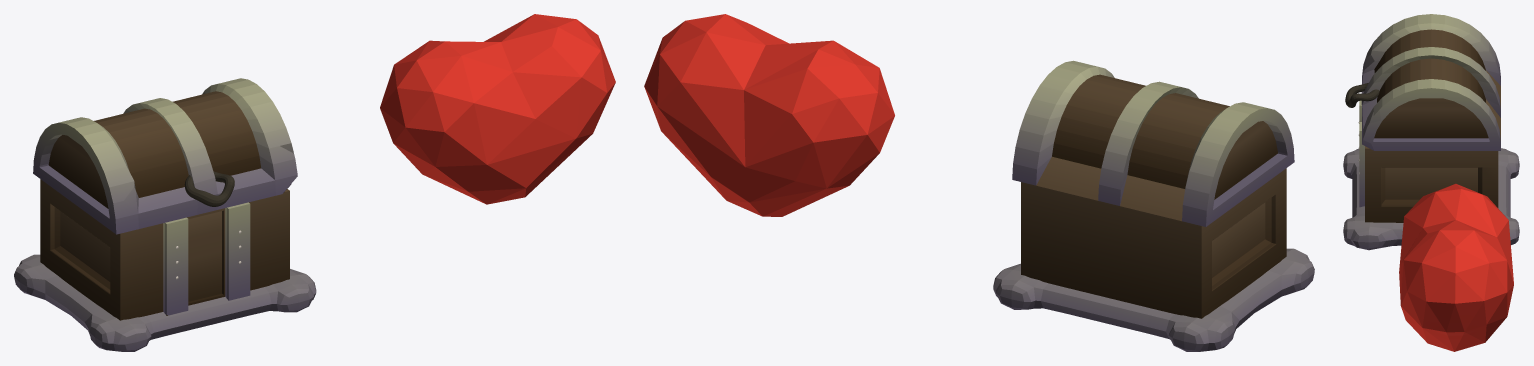
File: CORAZONYCOFRE.fbx
3 views of the same model, side by side, from view 1: azimuth 30°, elevation 25°; view 2: azimuth 150°, elevation 25°; view 3: azimuth 270°, elevation 25° (orthographic). The views are drawn at different scales.
Visible parts, largest first — view 1: COFRE, CORAZON; view 2: COFRE, CORAZON; view 3: COFRE, CORAZON.
Part boxes in pixels (bbox=[...]): COFRE: bbox=[14, 78, 316, 351]; CORAZON: bbox=[380, 14, 615, 204]; COFRE: bbox=[993, 60, 1314, 351]; CORAZON: bbox=[644, 14, 894, 216]; COFRE: bbox=[1343, 14, 1519, 250]; CORAZON: bbox=[1399, 183, 1513, 351].
Bounding box in the file's own units: 327 × 105 × 106.
